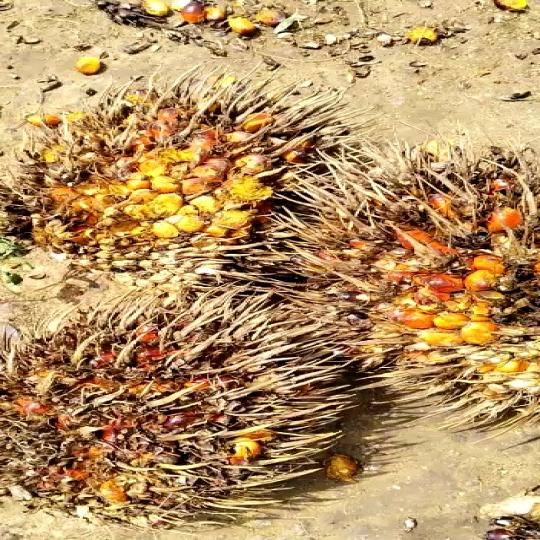terlalu masak: (0, 274, 352, 509), (0, 89, 378, 264)
